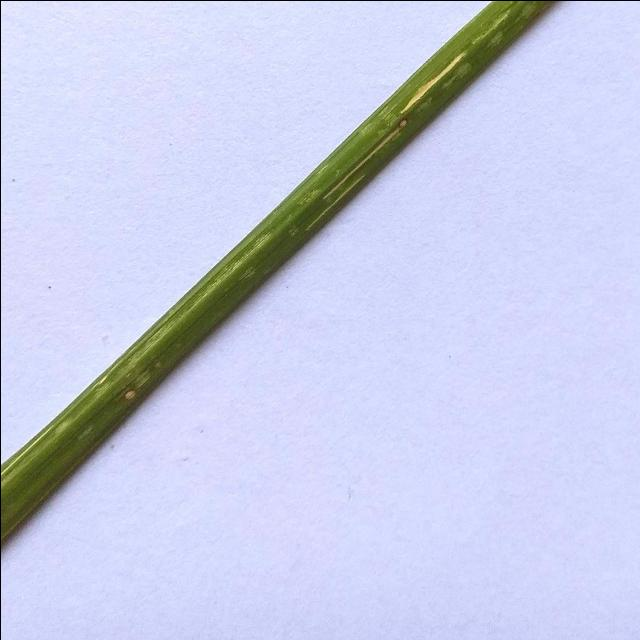Leaf blast: (0, 0, 609, 582)
